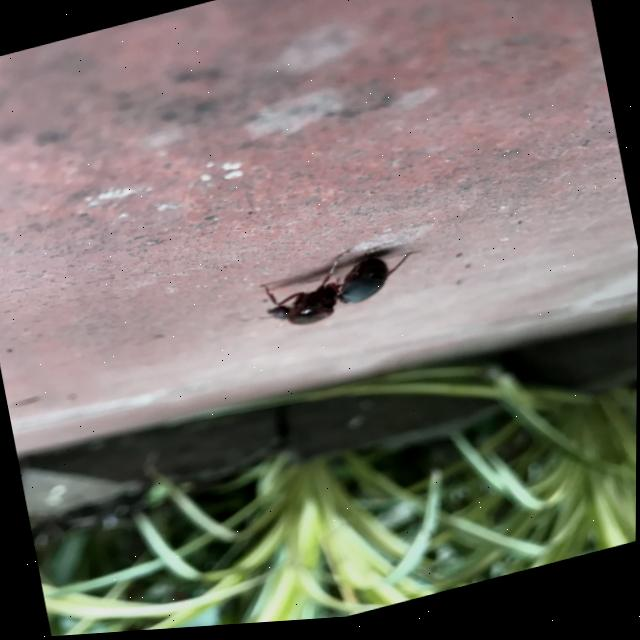Alive-Female-Dealate: (230, 235, 431, 347)
